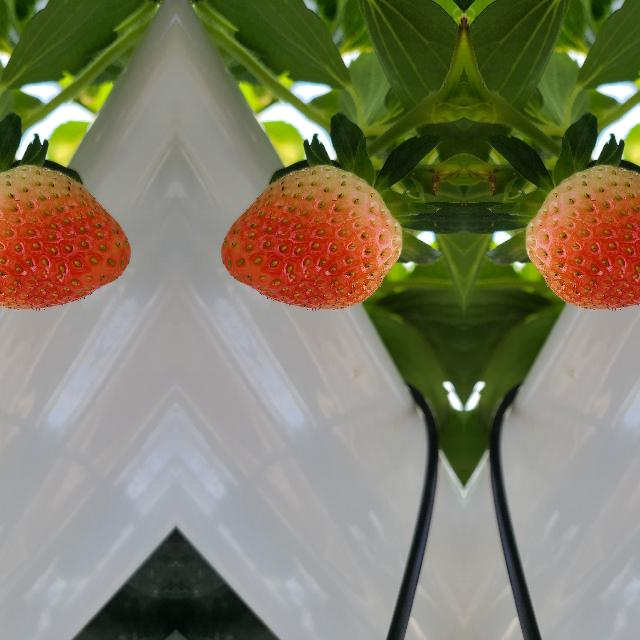Health_75: (220, 164, 404, 310), (0, 163, 130, 310), (521, 163, 640, 310)
